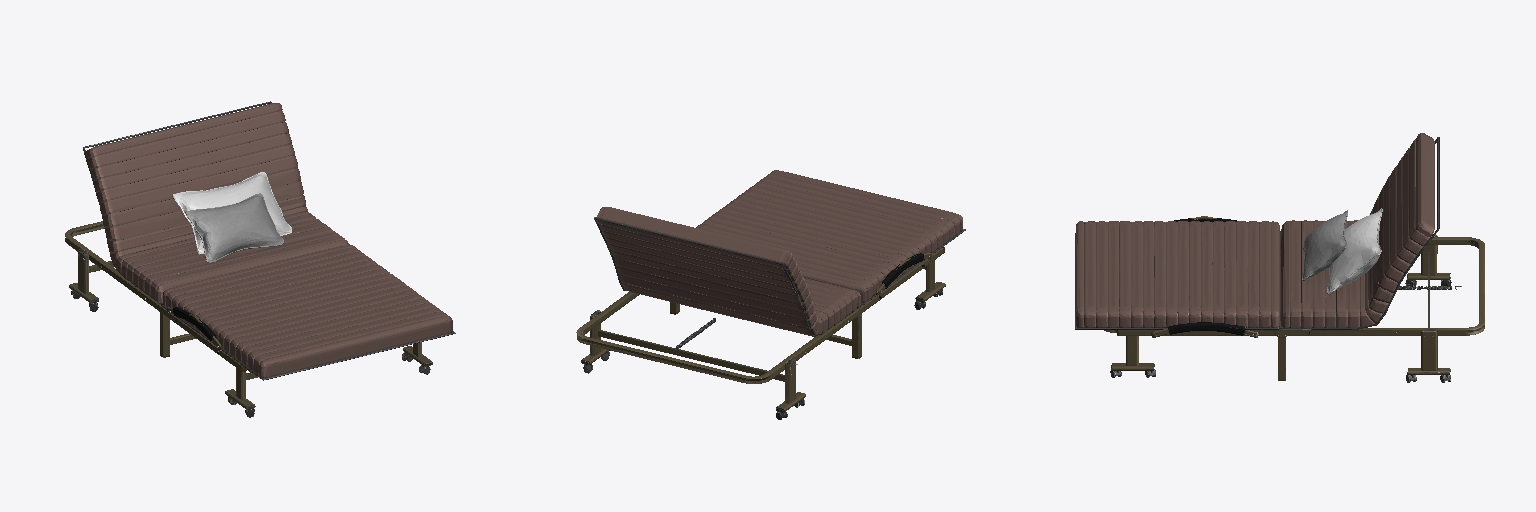
3 renders of one model, left to right at view 1: azimuth 30°, elevation 25°; view 2: azimuth 150°, elevation 25°; view 3: azimuth 270°, elevation 25°, orthographic.
Parts seen in each view (by area): view 1: solid_011, solid_012, solid_007, solid_003, solid_001; view 2: solid_011, solid_007, solid_001; view 3: solid_011, solid_007, solid_003, solid_012, solid_001, solid_006.
Boxes of the visible parts, box(x1,y1,x2,y2) form: solid_011: box(85, 103, 452, 377); solid_012: box(185, 193, 283, 262); solid_007: box(65, 221, 432, 409); solid_003: box(172, 172, 291, 254); solid_001: box(83, 101, 455, 380); solid_011: box(596, 170, 962, 335); solid_007: box(576, 248, 945, 412); solid_001: box(594, 217, 965, 350); solid_011: box(1075, 133, 1434, 327); solid_007: box(1104, 216, 1484, 379); solid_003: box(1327, 208, 1382, 293); solid_012: box(1302, 210, 1347, 280); solid_001: box(1075, 137, 1461, 329); solid_006: box(1168, 218, 1245, 335).
Size of the model in its own units: 1.15 by 0.8504 by 2.
1 materials, 1 textured.